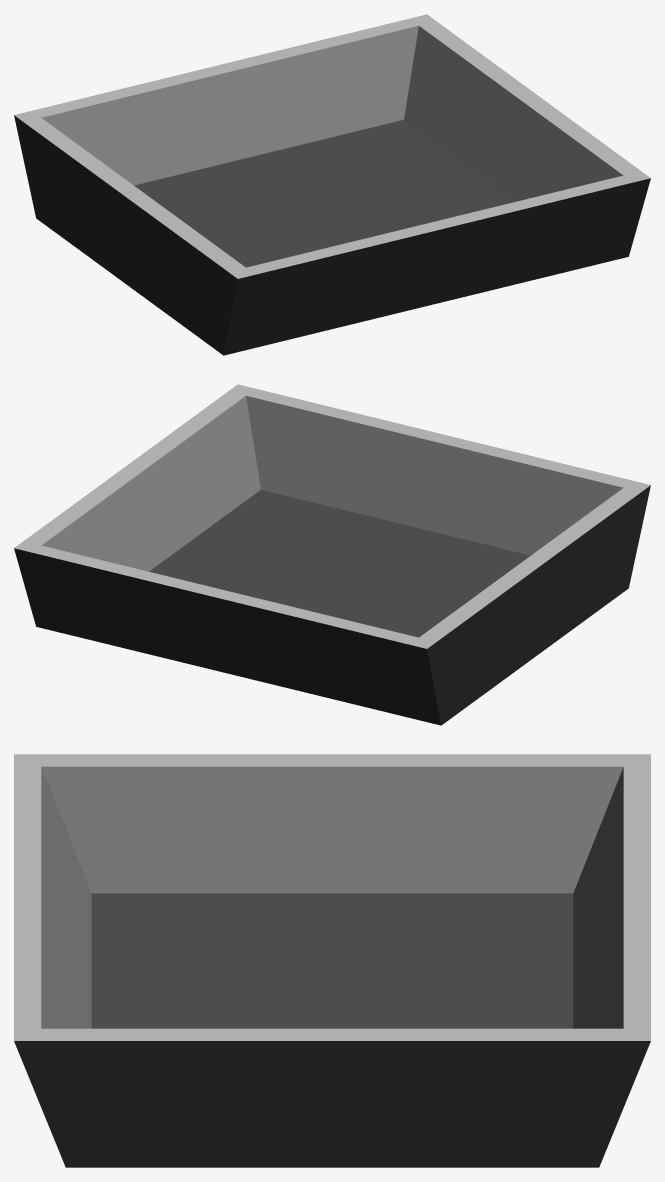
File: FoodContainer.fbx
3 views of the same model, one above another, from view 1: azimuth 30°, elevation 25°; view 2: azimuth 150°, elevation 25°; view 3: azimuth 270°, elevation 25° (orthographic). The views are drawn at different scales.
Parts seen in each view (by area): view 1: FoodContainer; view 2: FoodContainer; view 3: FoodContainer.
Part boxes in pixels (left/top/right/bottom): FoodContainer: left=14, top=14, right=650, bottom=355; FoodContainer: left=14, top=384, right=650, bottom=725; FoodContainer: left=14, top=754, right=650, bottom=1167.
Size of the model in its own units: 29.7 by 6.25 by 27.88.
